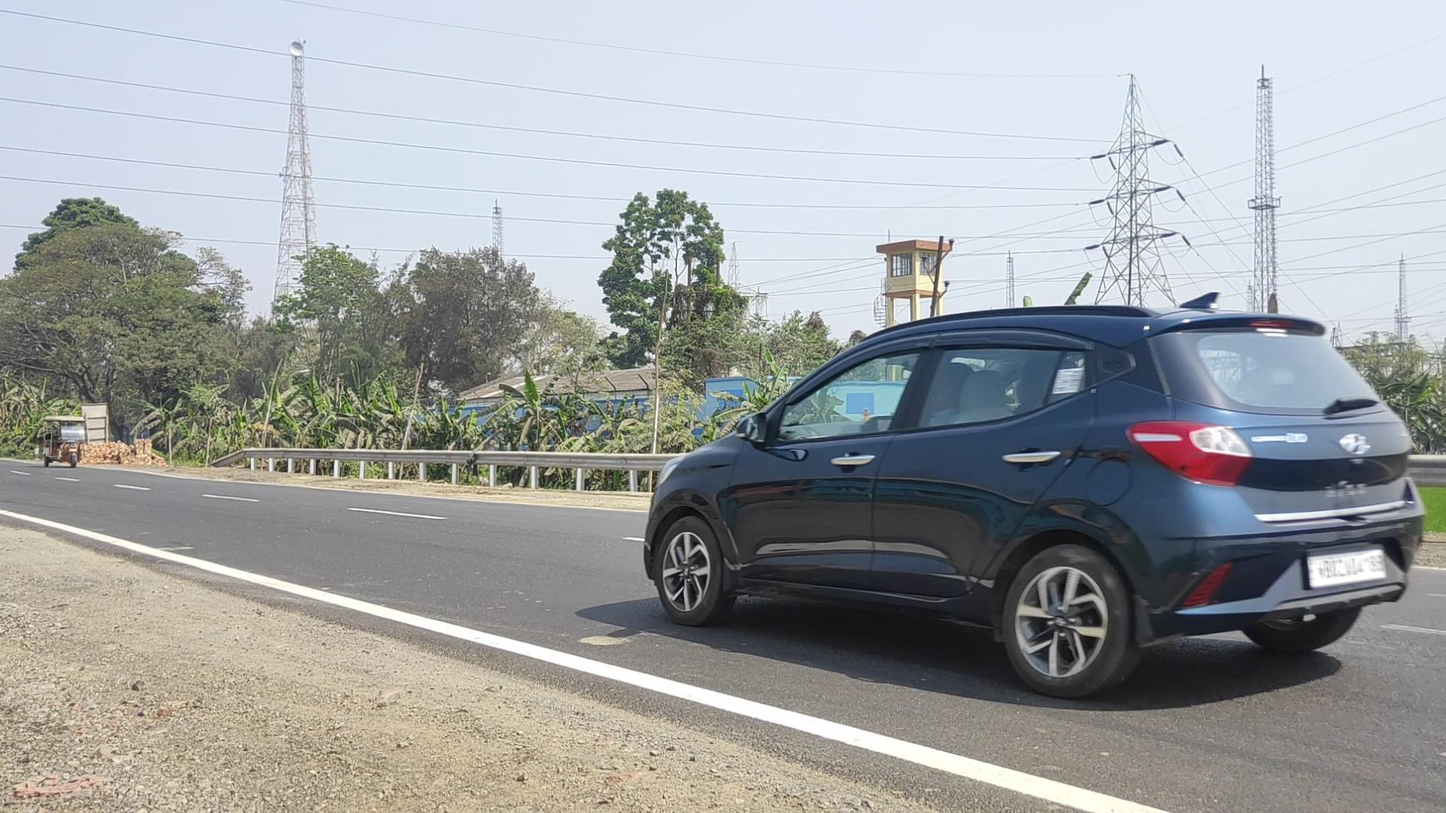Auto: (43, 414, 87, 468)
car: (643, 291, 1426, 699)
